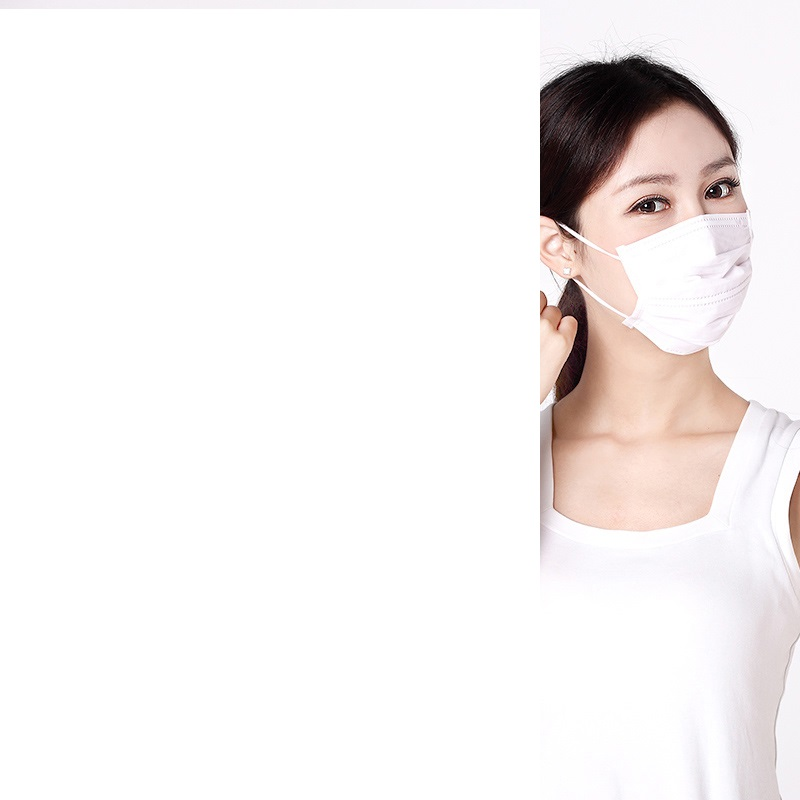face_mask: (579, 98, 752, 352)
